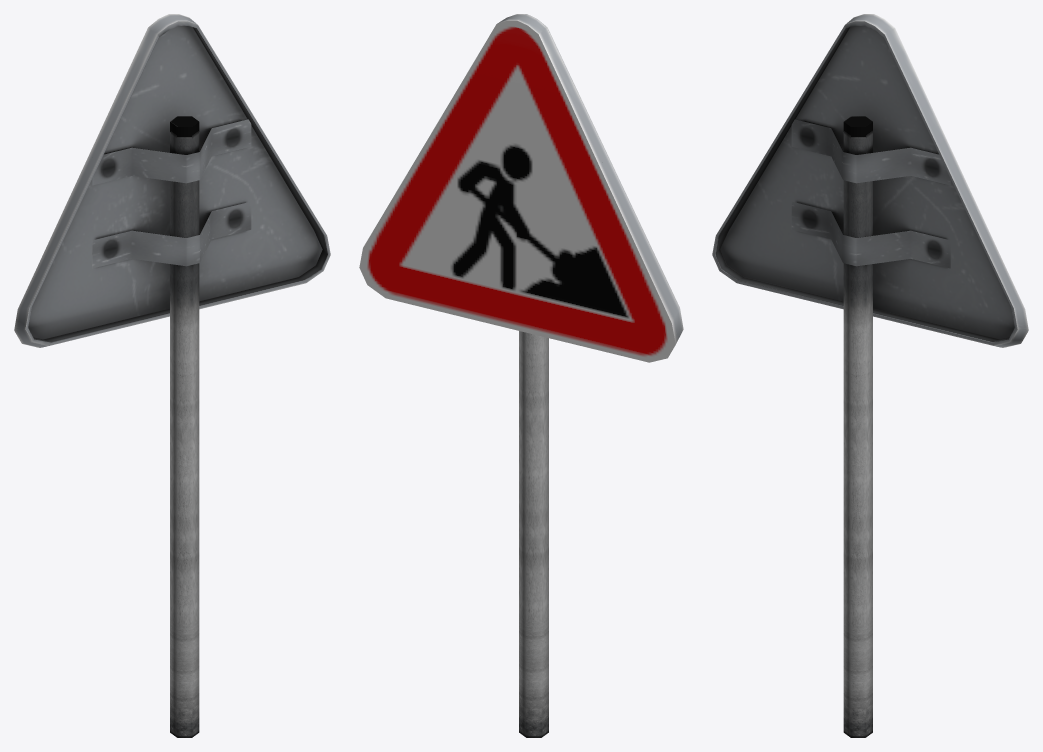
The model's file is TRF0310016.fbx.
The picture shows the model from 3 angles, left to right: view 1: azimuth 30°, elevation 25°; view 2: azimuth 150°, elevation 25°; view 3: azimuth 330°, elevation 25°; orthographic projection. The views are drawn at different scales.
Visible parts, largest first — view 1: smTRF0310016; view 2: smTRF0310016; view 3: smTRF0310016.
Part boxes in pixels (x1=…): smTRF0310016: x1=14, y1=14, x2=330, y2=737; smTRF0310016: x1=359, y1=14, x2=683, y2=737; smTRF0310016: x1=712, y1=14, x2=1028, y2=737.
Bounding box in the file's own units: 70.52 × 154 × 9.78.
1 material, 1 textured.
